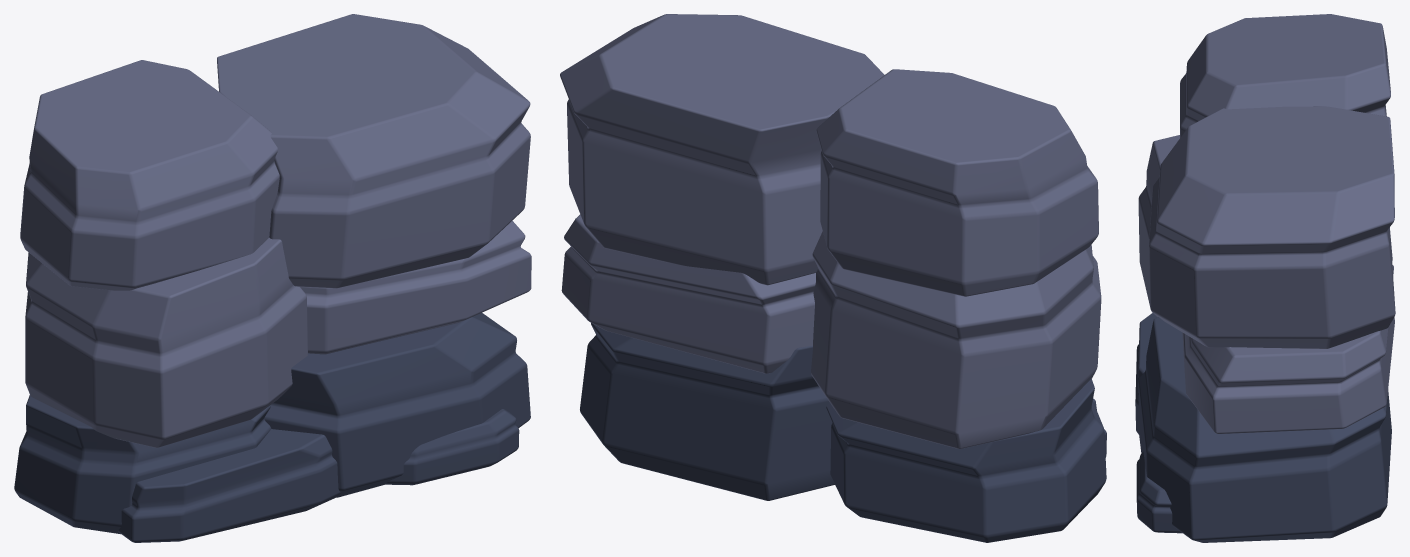
The model's file is SM_CC_RockWall_C.fbx.
The picture shows the model from 3 angles, left to right: view 1: azimuth 30°, elevation 25°; view 2: azimuth 150°, elevation 25°; view 3: azimuth 270°, elevation 25°; orthographic projection. The views are drawn at different scales.
Visible parts, largest first — view 1: SM_CC_RockWall_C; view 2: SM_CC_RockWall_C; view 3: SM_CC_RockWall_C.
Part boxes in pixels (left/top/right/bottom): SM_CC_RockWall_C: left=14, top=14, right=531, bottom=542; SM_CC_RockWall_C: left=560, top=14, right=1106, bottom=542; SM_CC_RockWall_C: left=1135, top=14, right=1395, bottom=542.
Size of the model in its own units: 3.99 by 2 by 3.
